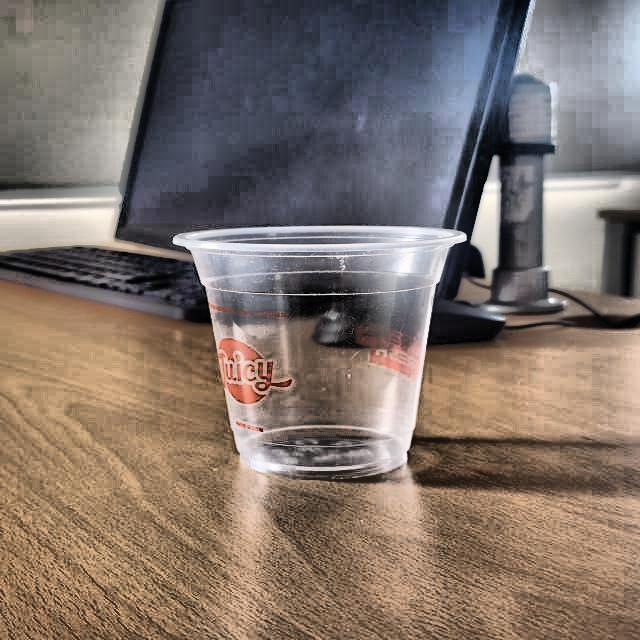plastic cup: (170, 222, 468, 477)
